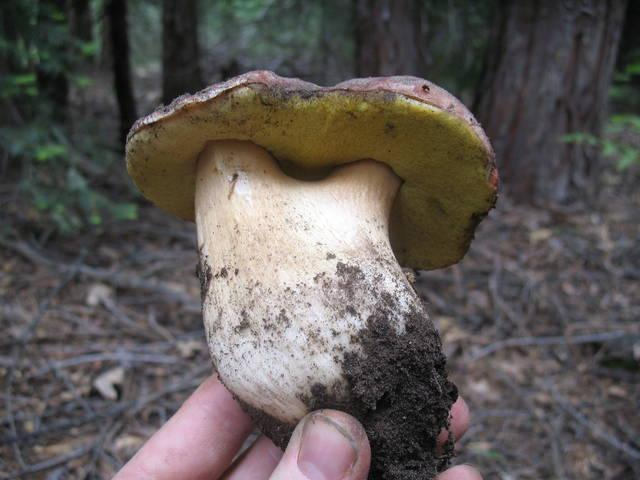Edible Mushroom: (123, 68, 500, 479)
